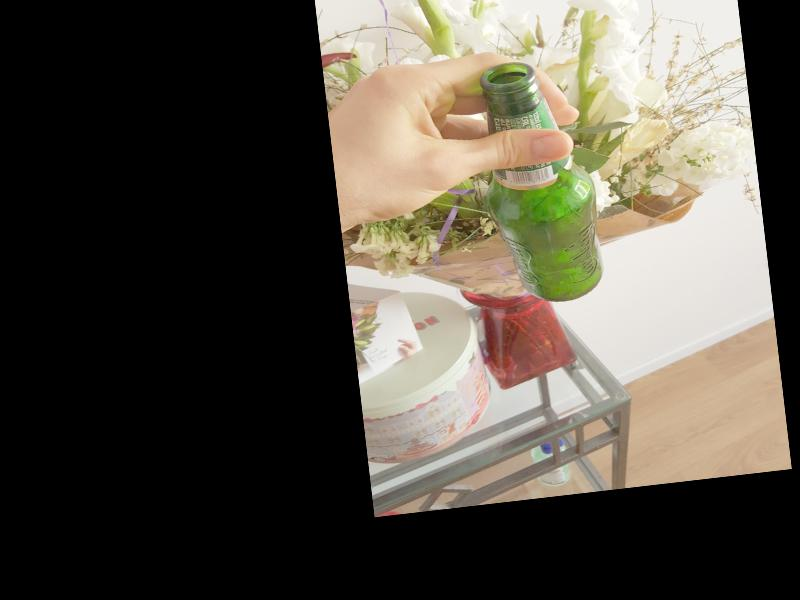Beer: (472, 56, 608, 309)
